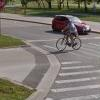Bicycle: (47, 28, 86, 56)
